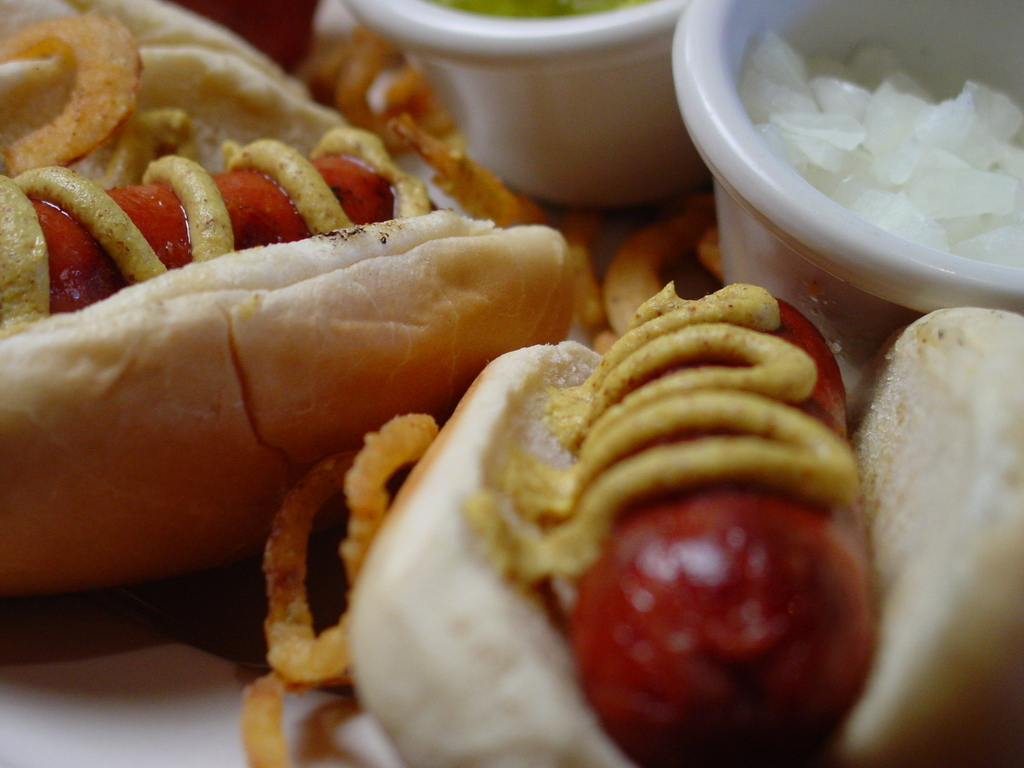hot_dog: (0, 0, 578, 589), (349, 273, 1023, 767)
